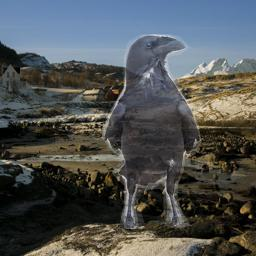Crow: (102, 34, 202, 229)
